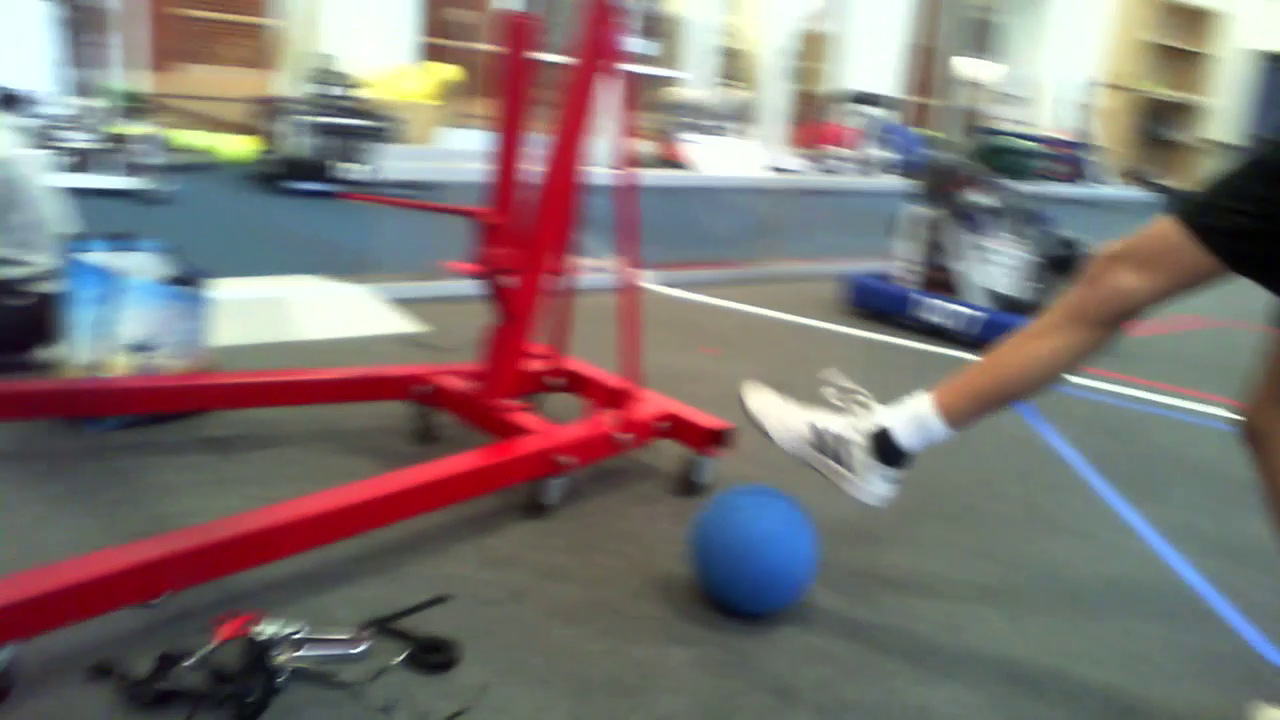blue_cargo: (695, 479, 825, 611)
blue_robot: (865, 153, 1019, 339)
